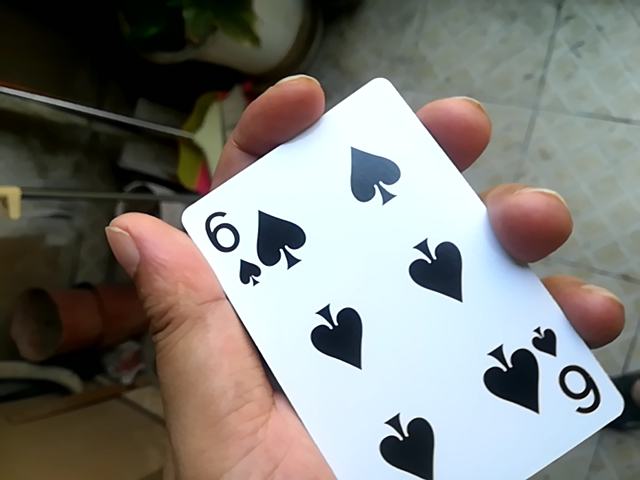ht 6: (162, 72, 618, 480)
